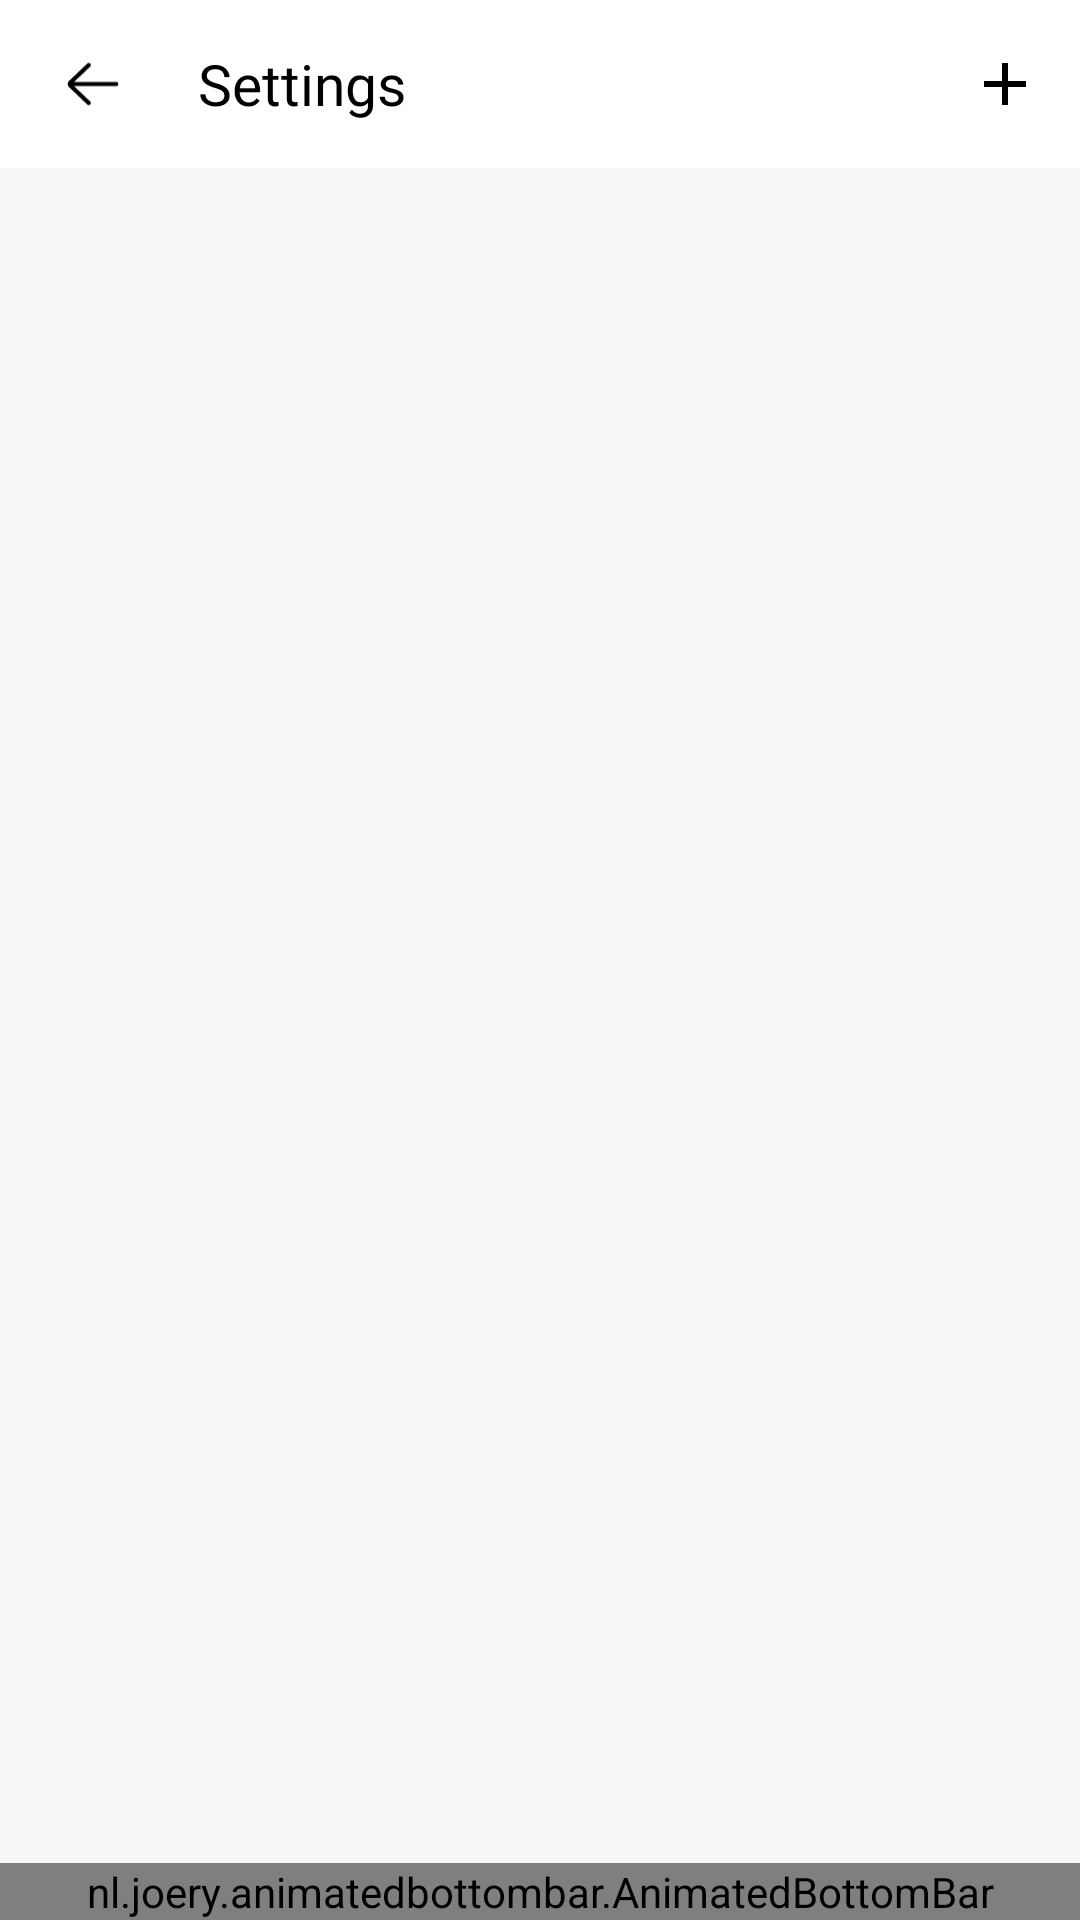

Point at icon controls on the screen. Image size 1080px x 1920px, points as [x,y].
add: [1005,84]
back: [93,84]
